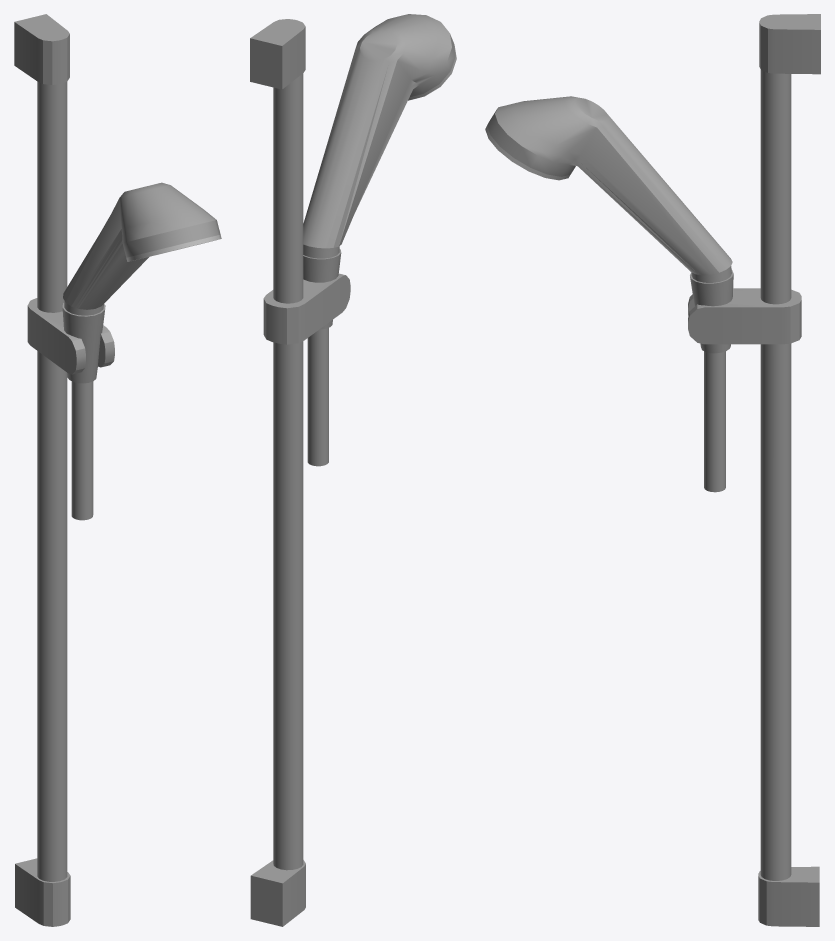
File: SM_Shower.fbx
3 renders of one model, left to right at view 1: azimuth 30°, elevation 25°; view 2: azimuth 150°, elevation 25°; view 3: azimuth 270°, elevation 25°, orthographic.
Parts seen in each view (by area): view 1: SM_Shower; view 2: SM_Shower; view 3: SM_Shower.
Part boxes in pixels (x1,y1,x2,y2): SM_Shower: (14,14,221,926); SM_Shower: (250,14,456,926); SM_Shower: (485,14,820,926).
Bounding box in the file's own units: 0.0802 × 0.8033 × 0.2724.
2 materials, 1 textured.
